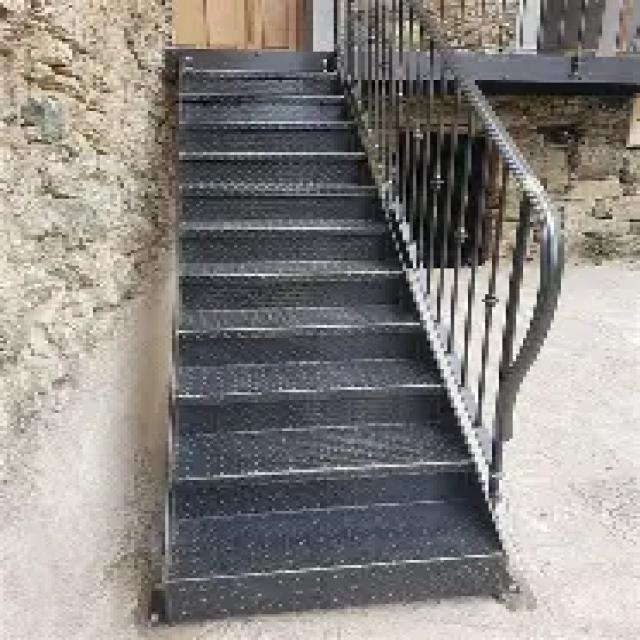Stairs: (146, 147, 584, 638)
